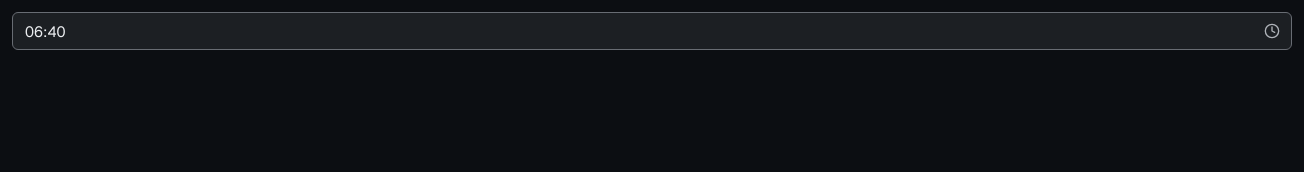
Test: TimeField › pending : « À confirmer » tant que vide ; vider rend une valeur vide
Clear the field named "Heure" at (652, 31), box x1=12 y1=12 x2=1292 y2=50
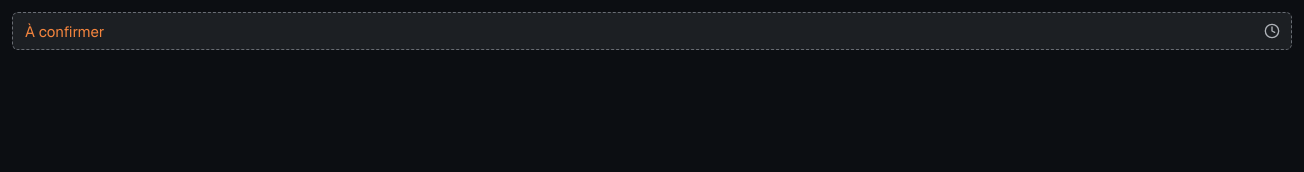
Check: the field named "Heure" has attribute data-pending="true", box x1=12 y1=12 x2=1292 y2=50
